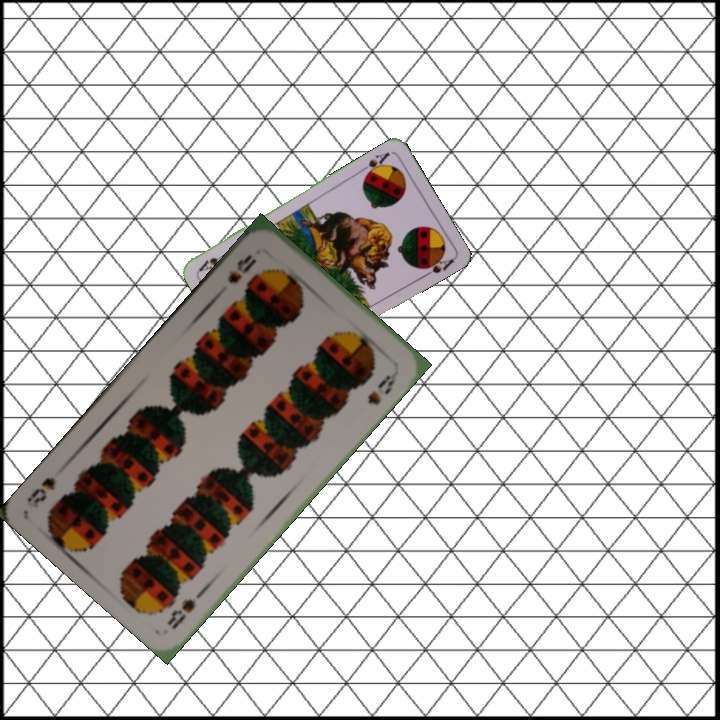S8: (163, 584, 209, 633), (223, 250, 259, 287)
SA: (356, 148, 392, 180)
